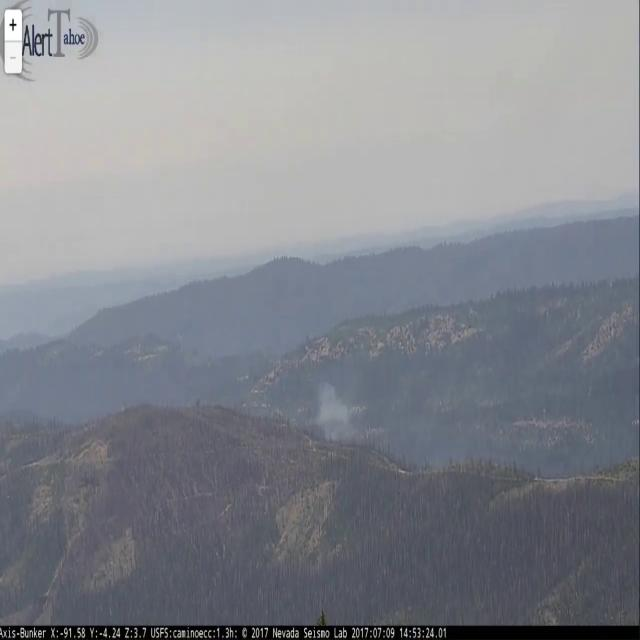smoke: (308, 362, 372, 472)
